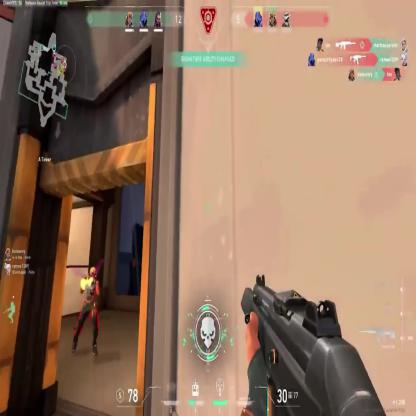enemy: (72, 262, 98, 358)
enemy_head: (89, 266, 97, 284)
